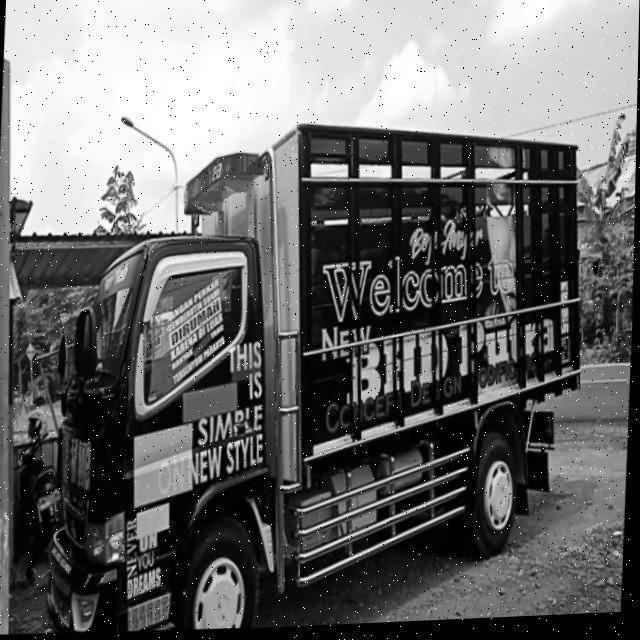truck: (23, 193, 326, 639)
